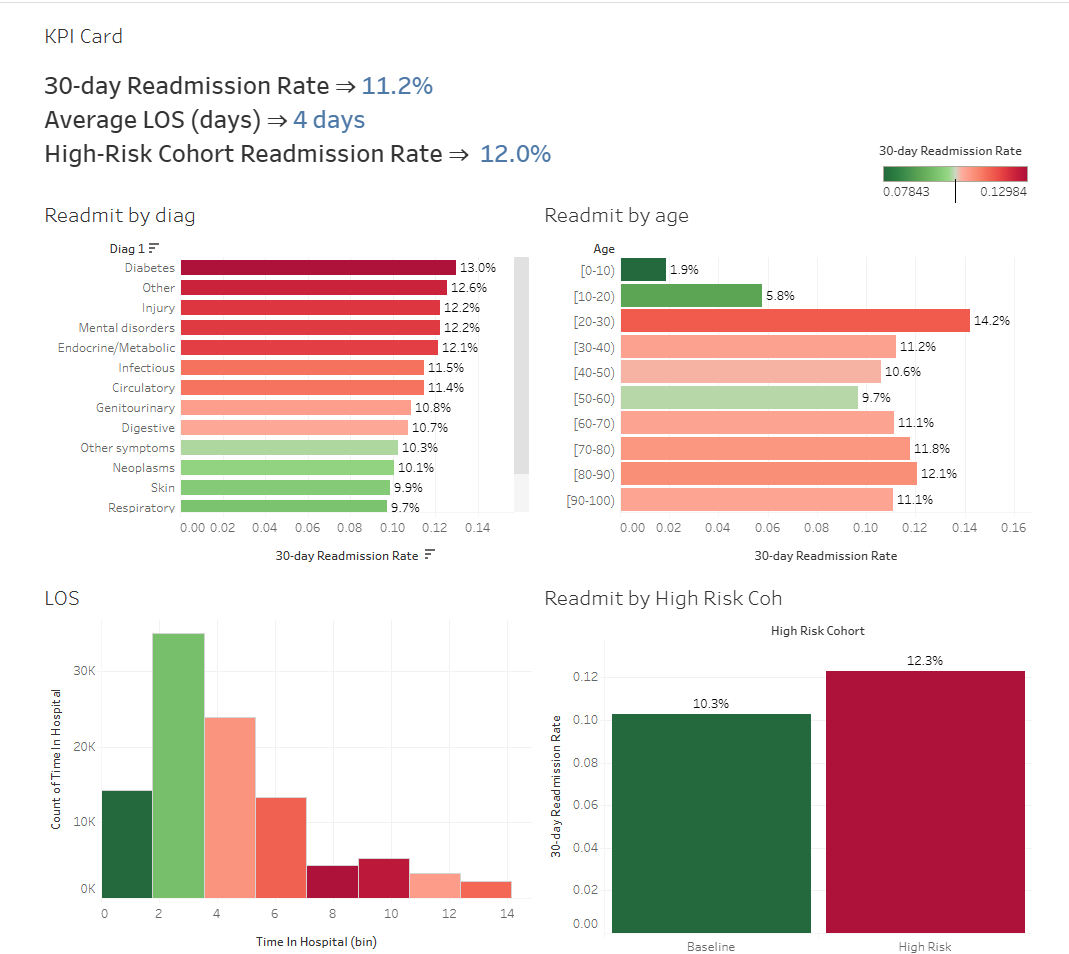

This screenshot's page, from the dashboard's own definition file:
{"tool":"tableau","page":{"name":"Executive Summary","canvas":[1016,964],"ordinal":0},"visuals":[{"type":"worksheet","title":"KPI Card","mark":"Automatic","box":[8,8,1000,179]},{"type":"legend","title":"Readmit by diag","param":"[federated.0sikf950av1wb211hvp3k1gj3b22].[usr:Calculation_1624955094015557632:qk","box":[851,139,153,76]},{"type":"worksheet","title":"Readmit by diag","mark":"Automatic","rows":["diag_1"],"cols":["Calculation_1624955094015557632"],"box":[8,187,500,383]},{"type":"worksheet","title":"Readmit by age","mark":"Automatic","rows":["age"],"cols":["Calculation_1624955094015557632"],"box":[508,187,500,383]},{"type":"worksheet","title":"LOS","mark":"Automatic","rows":["time_in_hospital"],"cols":["Time In Hospital (bin)"],"box":[8,570,500,386]},{"type":"worksheet","title":"Readmit by High Risk Coh","mark":"Automatic","rows":["Calculation_1624955094015557632"],"cols":["Calculation_1624955094026002437"],"box":[508,570,500,386]}]}

Visuals, with their boxes on the page's 1016x964 design canvas (x1, y1, x2, y2). These are canvas units, not pixel positions in the 1069x954 screenshot, which may show the page scaled, cropped or inside an application window:
"KPI Card" worksheet: (8, 8, 1008, 187)
"Readmit by diag" legend: (851, 139, 1004, 215)
"Readmit by diag" worksheet: (8, 187, 508, 570)
"Readmit by age" worksheet: (508, 187, 1008, 570)
"LOS" worksheet: (8, 570, 508, 956)
"Readmit by High Risk Coh" worksheet: (508, 570, 1008, 956)
